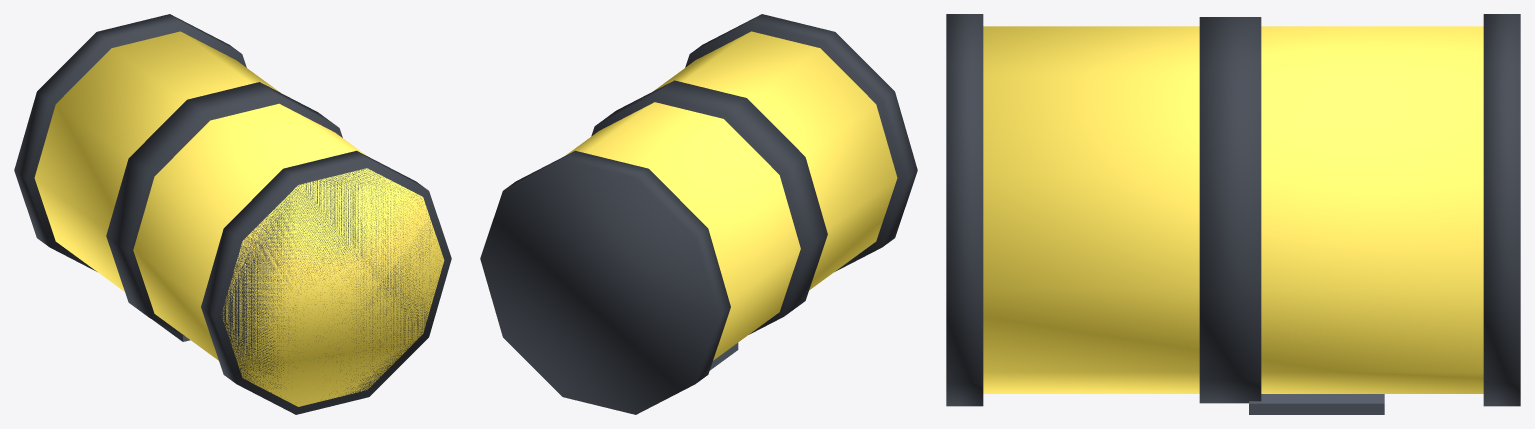
File: prop_barrel.glb
3 renders of one model, left to right at view 1: azimuth 30°, elevation 25°; view 2: azimuth 150°, elevation 25°; view 3: azimuth 270°, elevation 25°, orthographic. The views are drawn at different scales.
Visible parts, largest first — view 1: prop_barrel; view 2: prop_barrel; view 3: prop_barrel.
Part boxes in pixels (bbox=[...]): prop_barrel: bbox=[14, 14, 451, 414]; prop_barrel: bbox=[480, 14, 917, 414]; prop_barrel: bbox=[946, 14, 1520, 414].
Size of the model in its own units: 0.64 by 0.6144 by 0.93.
